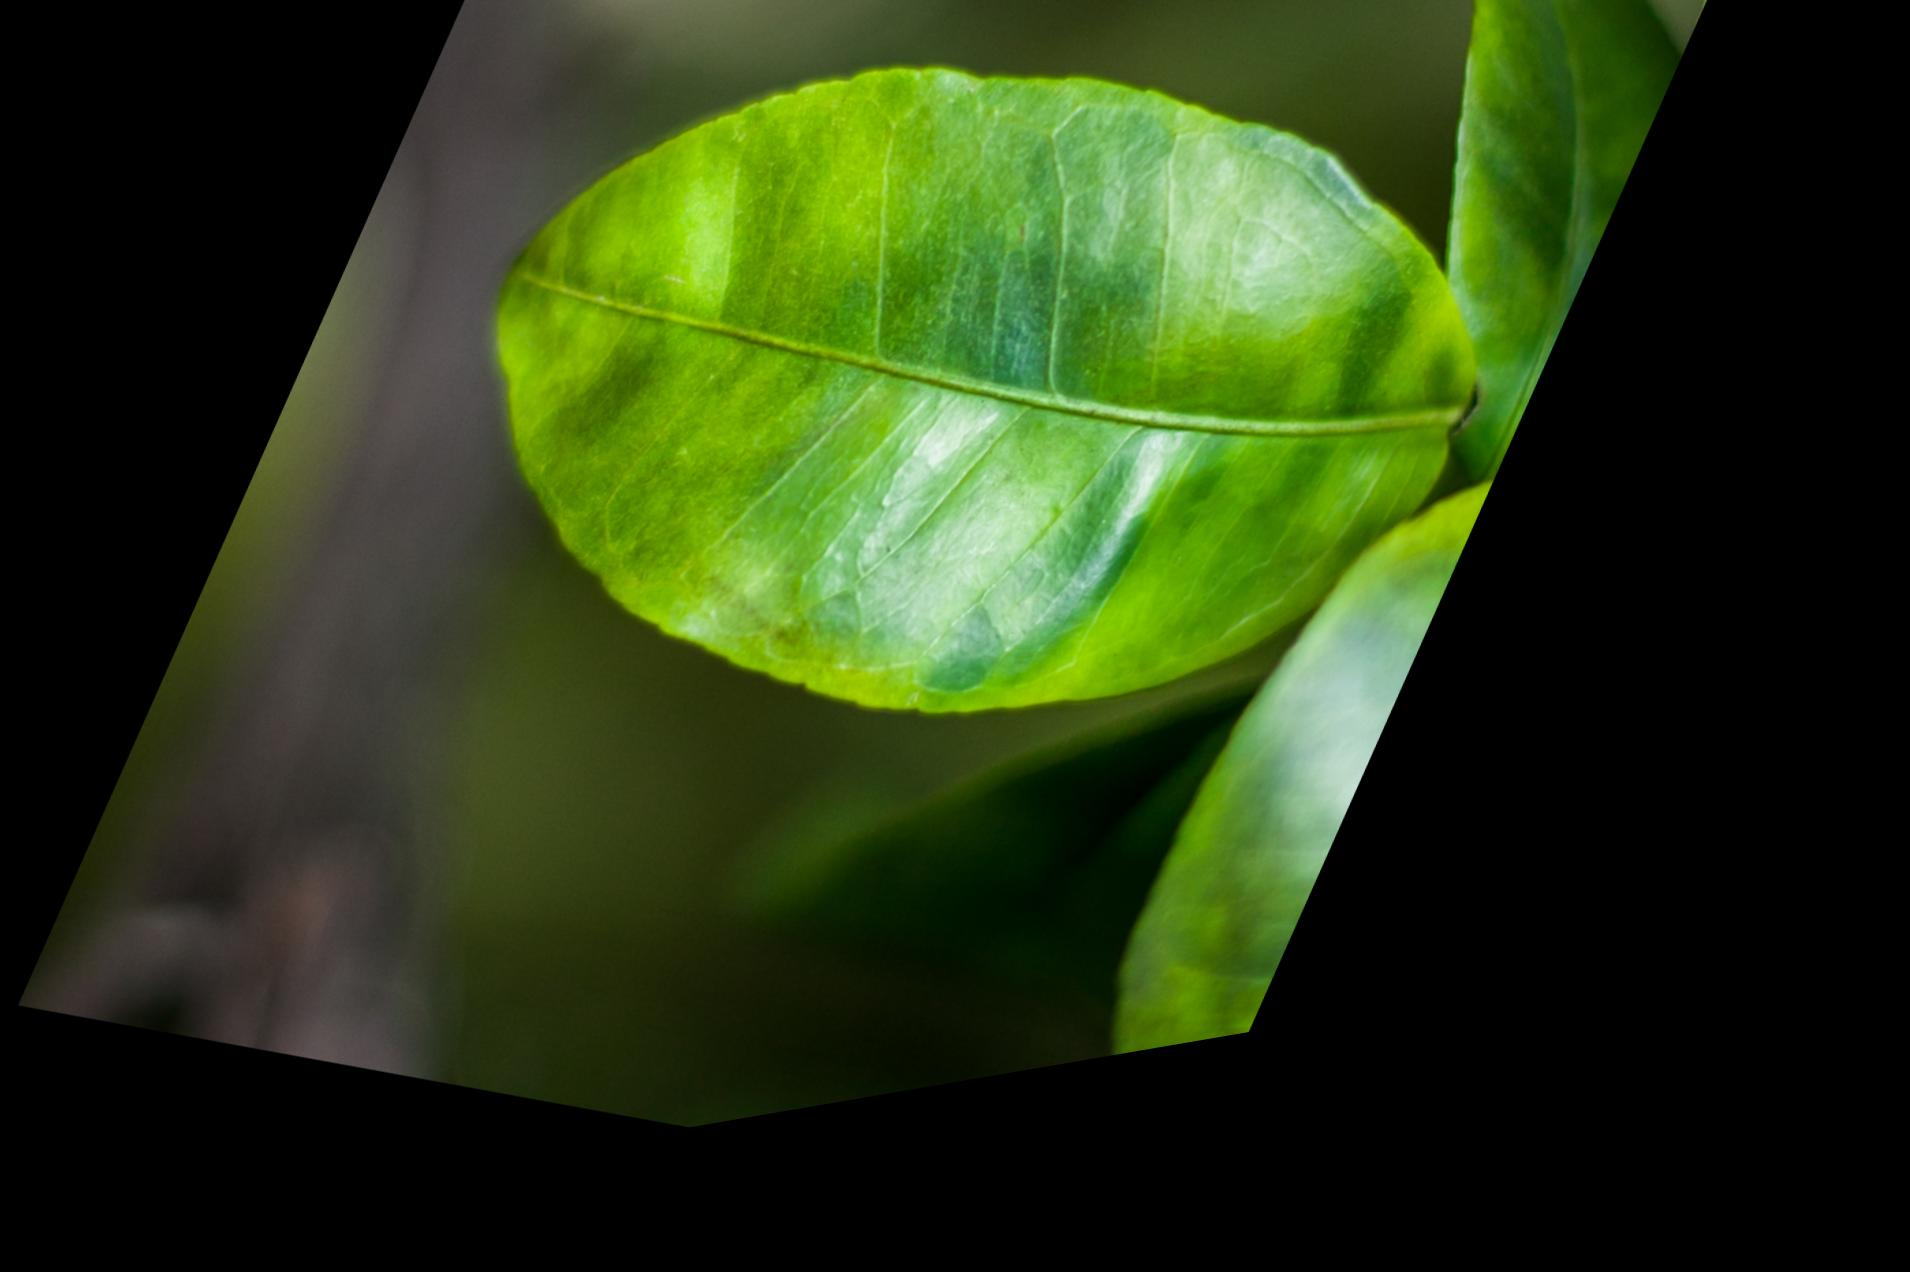Citrus Greening: (335, 0, 1630, 981)
